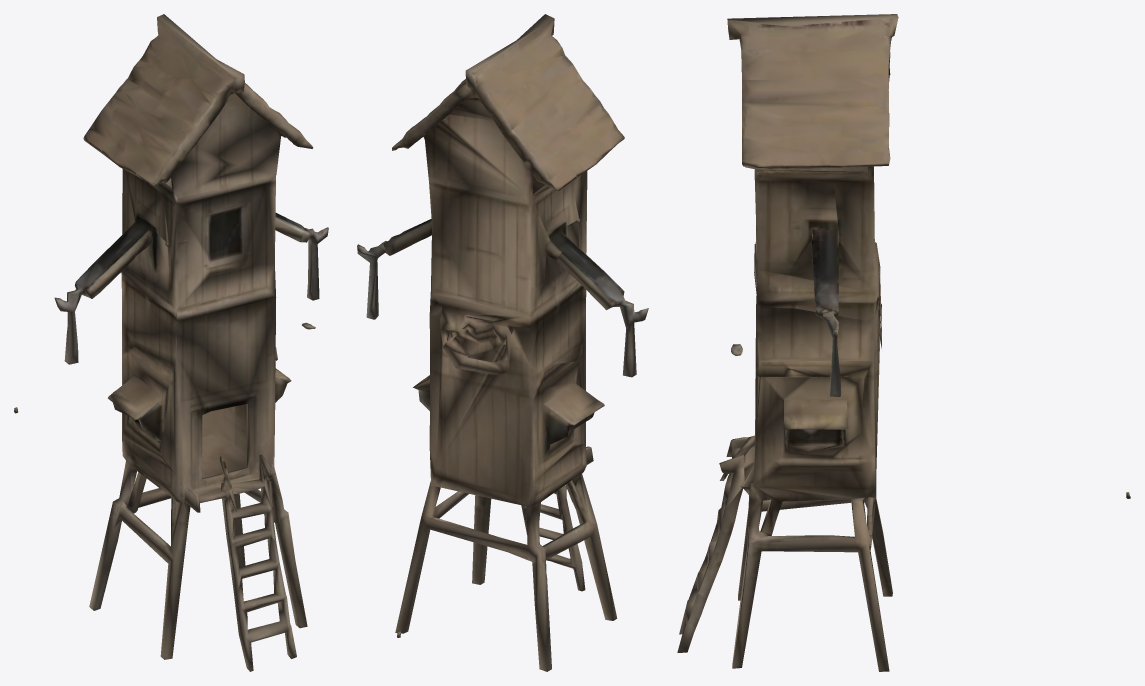
File: treehouse.glb
3 renders of one model, left to right at view 1: azimuth 30°, elevation 25°; view 2: azimuth 150°, elevation 25°; view 3: azimuth 270°, elevation 25°, orthographic. The views are drawn at different scales.
Bounding box in the file's own units: 1.02 × 2.02 × 1.33.
Materials: 1 (1 with a texture image).
